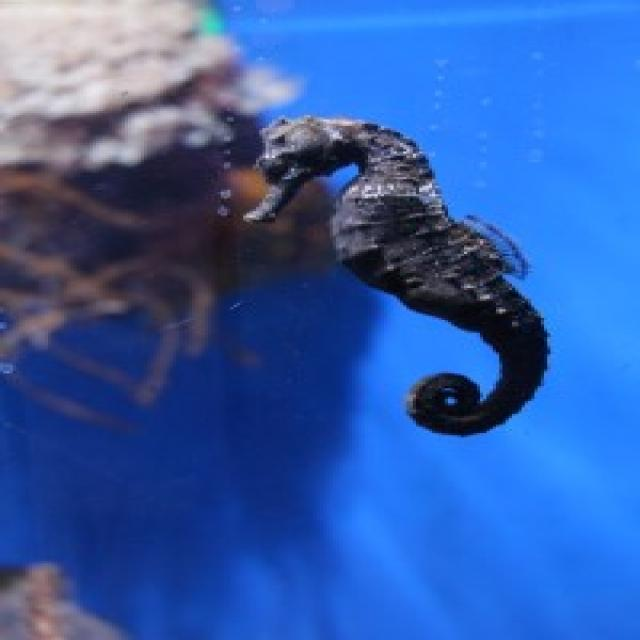Seahorse: (232, 113, 589, 444)
